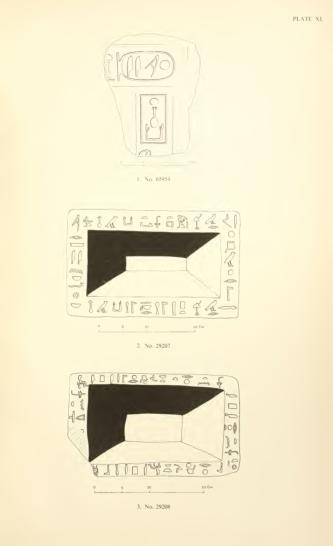circle: (114, 48, 179, 82)
